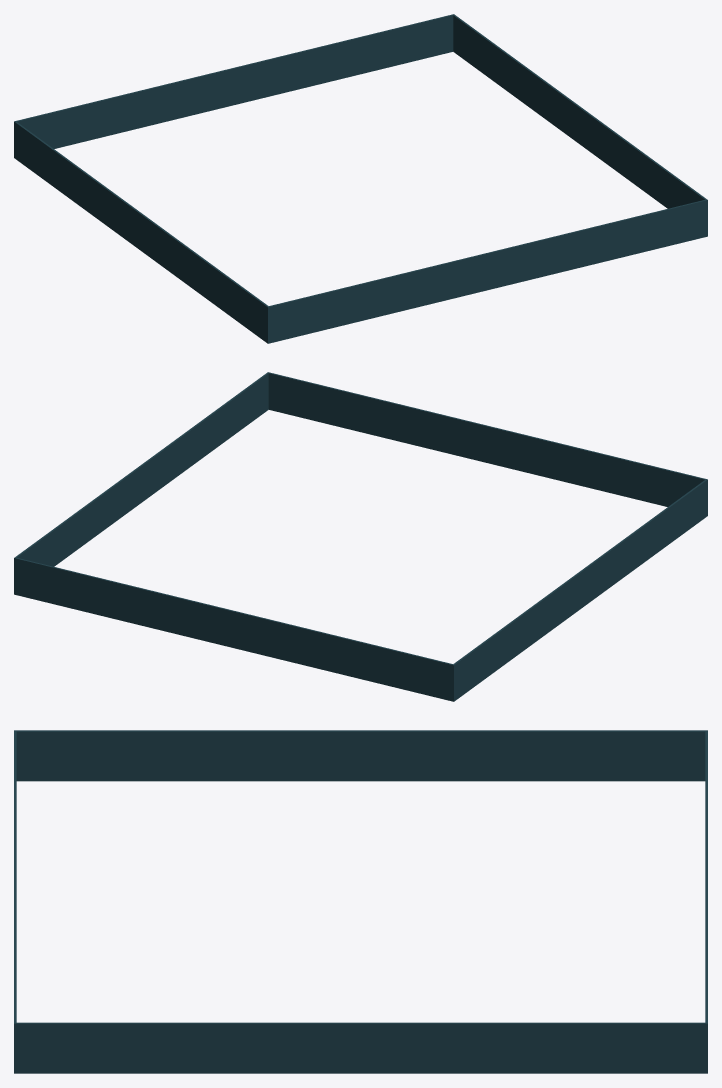
Rendered from wall.dae.
3 renders of one model, top to bottom at view 1: azimuth 30°, elevation 25°; view 2: azimuth 150°, elevation 25°; view 3: azimuth 270°, elevation 25°, orthographic. The views are drawn at different scales.
Parts seen in each view (by area): view 1: wall; view 2: wall; view 3: wall.
Boxes of the visible parts, x1=… form: wall: x1=14, y1=14, x2=707, y2=343; wall: x1=14, y1=372, x2=707, y2=701; wall: x1=14, y1=730, x2=707, y2=1073.
Size of the model in its own units: 5.04 by 5.04 by 0.4.
1 material, 1 textured.
